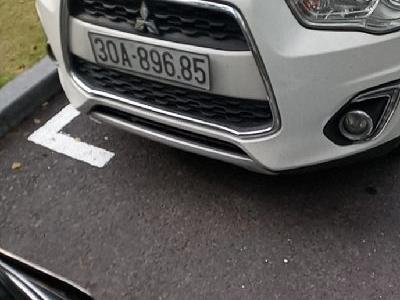number: (86, 29, 211, 92)
